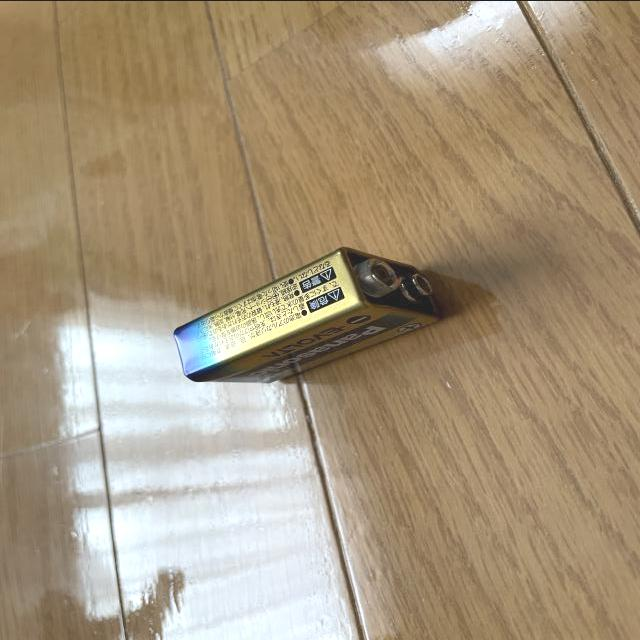9V: (170, 244, 443, 383)
